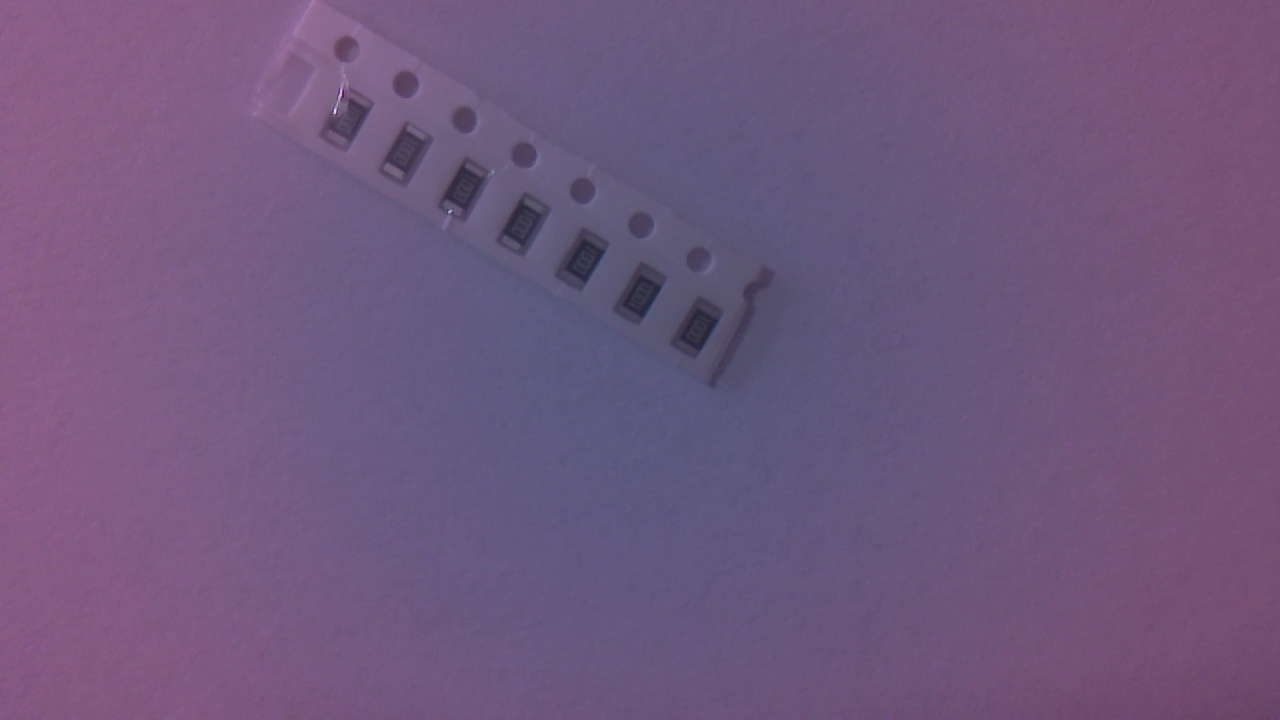Resistor: (440, 162, 499, 230), (560, 230, 617, 297), (499, 199, 557, 264), (326, 90, 382, 156), (617, 267, 675, 330), (385, 126, 440, 190), (674, 302, 729, 363)
